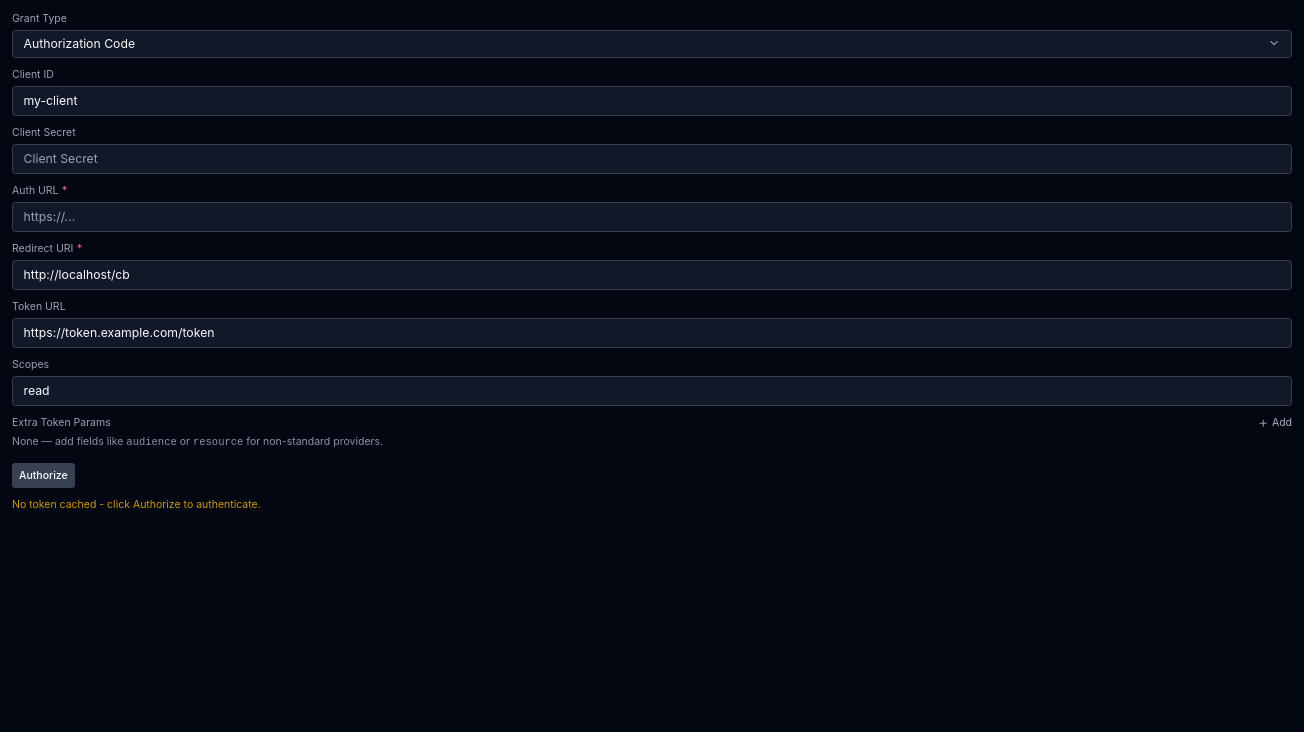
Test case: OAuthPanel › pre-flight validation › shows error when authUrl is blank for authorization_code flow
Click the button "Authorize": (43, 476) [12,463,75,488]
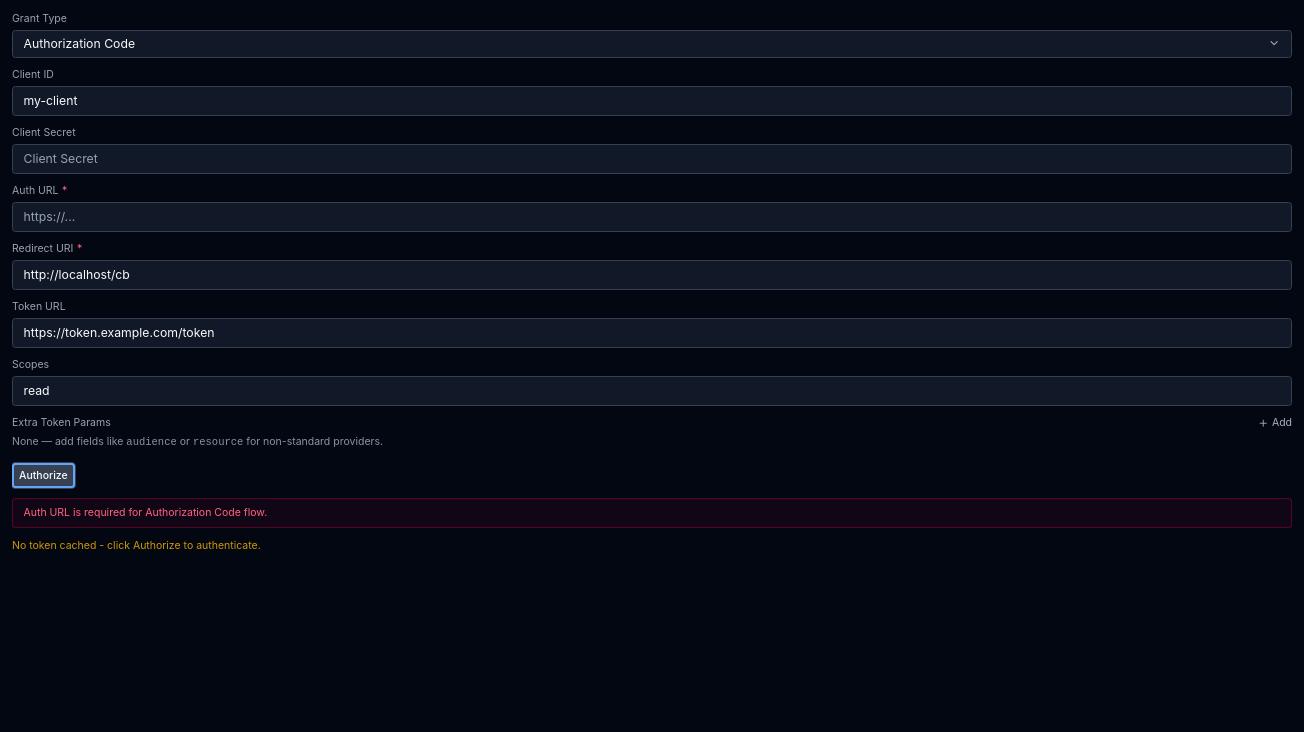
Result: the text "Auth URL is required for Authorization Code flow." is shown at [12,498,1292,528]
